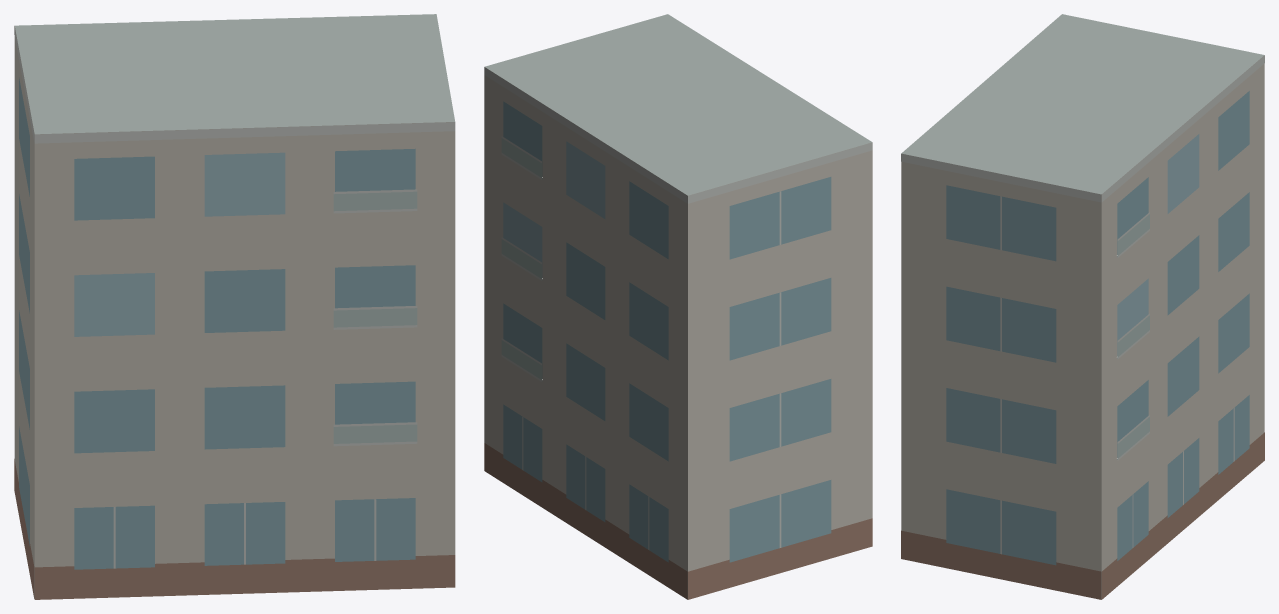
File: survey-upis-32956141.glb
3 views of the same model, side by side, from view 1: azimuth 30°, elevation 25°; view 2: azimuth 150°, elevation 25°; view 3: azimuth 270°, elevation 25° (orthographic). The views are drawn at different scales.
Parts seen in each view (by area): view 1: survey-upis-32956141.tmp; view 2: survey-upis-32956141.tmp; view 3: survey-upis-32956141.tmp.
Boxes of the visible parts, x1,y1,x2,y2 form: survey-upis-32956141.tmp: (14, 14, 455, 599); survey-upis-32956141.tmp: (484, 14, 872, 599); survey-upis-32956141.tmp: (901, 14, 1264, 599).
Bounding box in the file's own units: 11.66 × 12.2 × 9.93.
